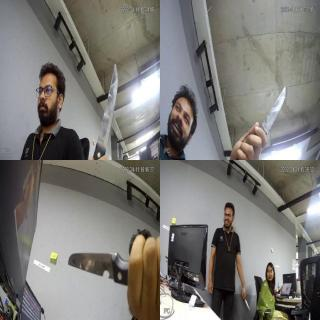knife: (92, 63, 120, 157), (67, 247, 120, 289), (249, 88, 287, 133), (243, 294, 250, 312)
